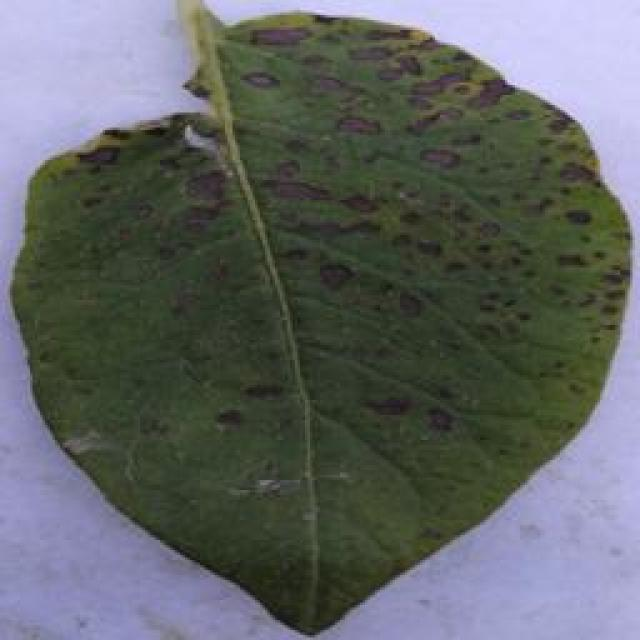Potato_Early_Blight: (6, 4, 636, 629)
